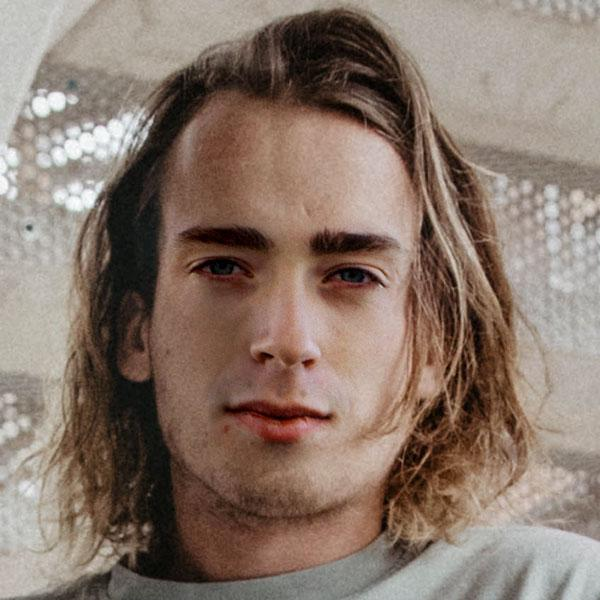Eyes: (180, 242, 261, 299), (312, 253, 392, 306)
